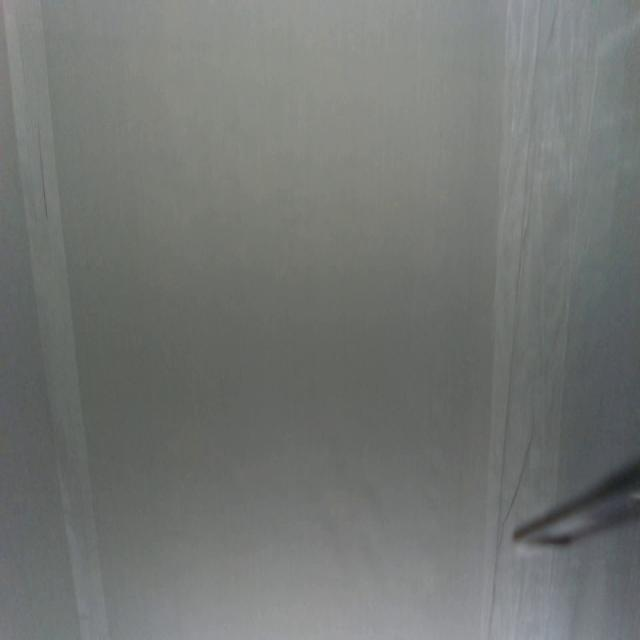crease: (4, 3, 113, 639), (482, 5, 543, 633)
